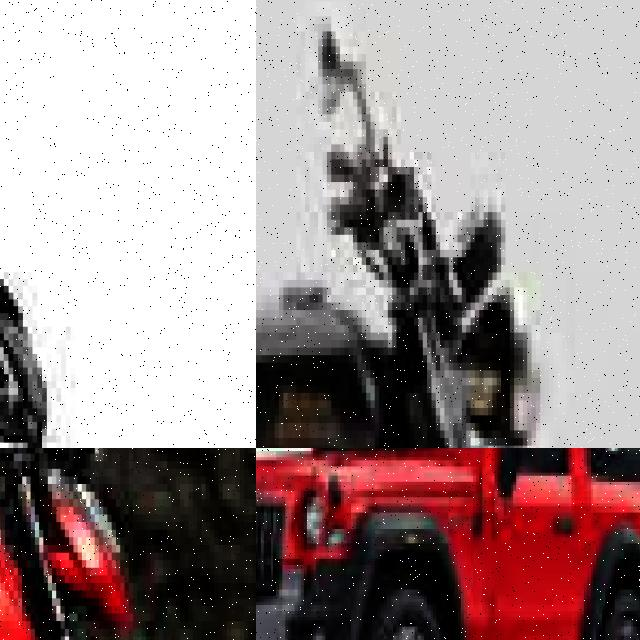bike: (256, 16, 640, 448), (0, 81, 204, 448), (0, 448, 256, 640)
car: (256, 448, 640, 640)
